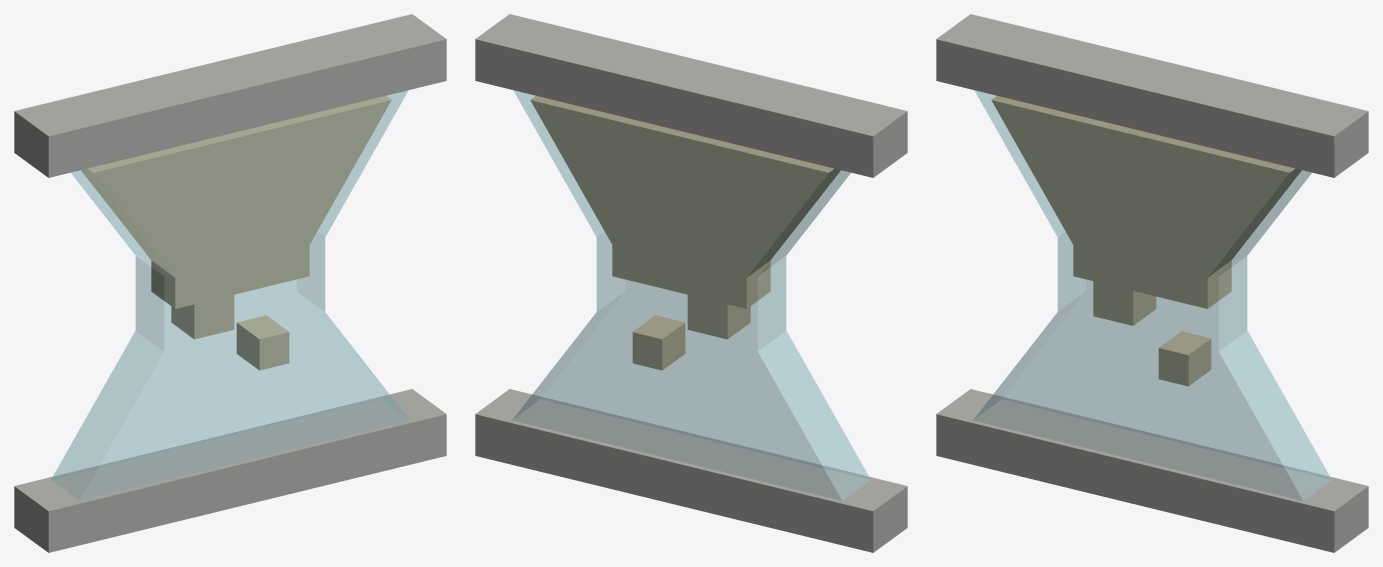
The model's file is Hourglass_M.fbx.
3 renders of one model, left to right at view 1: azimuth 30°, elevation 25°; view 2: azimuth 150°, elevation 25°; view 3: azimuth 330°, elevation 25°, orthographic.
Parts seen in each view (by area): view 1: Flat_Glass, Flat_Sand_1, Flat_HG_Base, Flat_HG_Top, Flat_Sand_3, Flat_Sand_2; view 2: Flat_Glass, Flat_Sand_1, Flat_HG_Base, Flat_HG_Top, Flat_Sand_3, Flat_Sand_2; view 3: Flat_Glass, Flat_Sand_1, Flat_HG_Base, Flat_HG_Top, Flat_Sand_3, Flat_Sand_2.
Part boxes in pixels (x1,y1,x2,y2): Flat_Glass: (51, 90, 409, 500); Flat_Sand_1: (81, 96, 391, 308); Flat_HG_Base: (14, 14, 446, 177); Flat_HG_Top: (14, 389, 446, 552); Flat_Sand_3: (236, 315, 289, 370); Flat_Sand_2: (171, 295, 234, 339); Flat_Glass: (512, 90, 870, 500); Flat_Sand_1: (530, 96, 840, 308); Flat_HG_Base: (475, 14, 907, 177); Flat_HG_Top: (475, 389, 907, 552); Flat_Sand_3: (632, 315, 685, 370); Flat_Sand_2: (687, 295, 750, 339); Flat_Glass: (973, 90, 1331, 500); Flat_Sand_1: (991, 96, 1301, 308); Flat_HG_Base: (936, 14, 1368, 177); Flat_HG_Top: (936, 389, 1368, 552); Flat_Sand_3: (1158, 331, 1211, 386); Flat_Sand_2: (1093, 281, 1156, 325).
Size of the model in its own units: 2 by 2 by 0.3.
